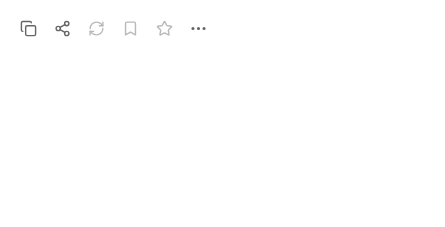
Test: keeps reading, copying and sharing available during research while writes are locked
Expected: the button named "重新生成答案" is disabled, [80, 12, 112, 44]
Expected: the button named "保存为研究笔记" is disabled, [114, 12, 146, 44]
Click the button named "更多回答操作" at {"x": 198, "y": 28}, box [182, 12, 214, 44]
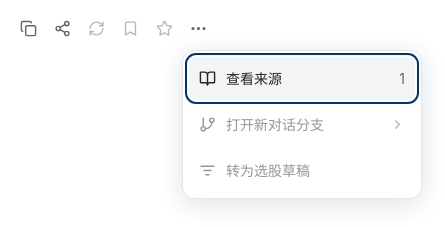
Expected: the menu item "查看来源 1" is enabled, [189, 57, 415, 100]
Expected: the menu item "打开新对话分支" is disabled, [189, 103, 415, 146]
